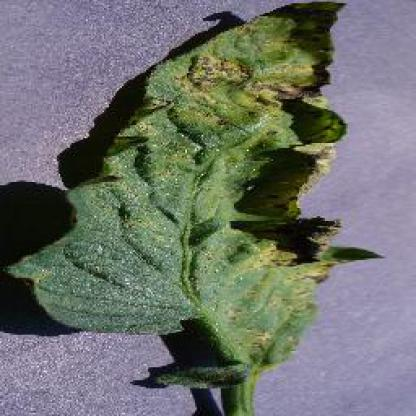bad leaf: (48, 0, 364, 412)
